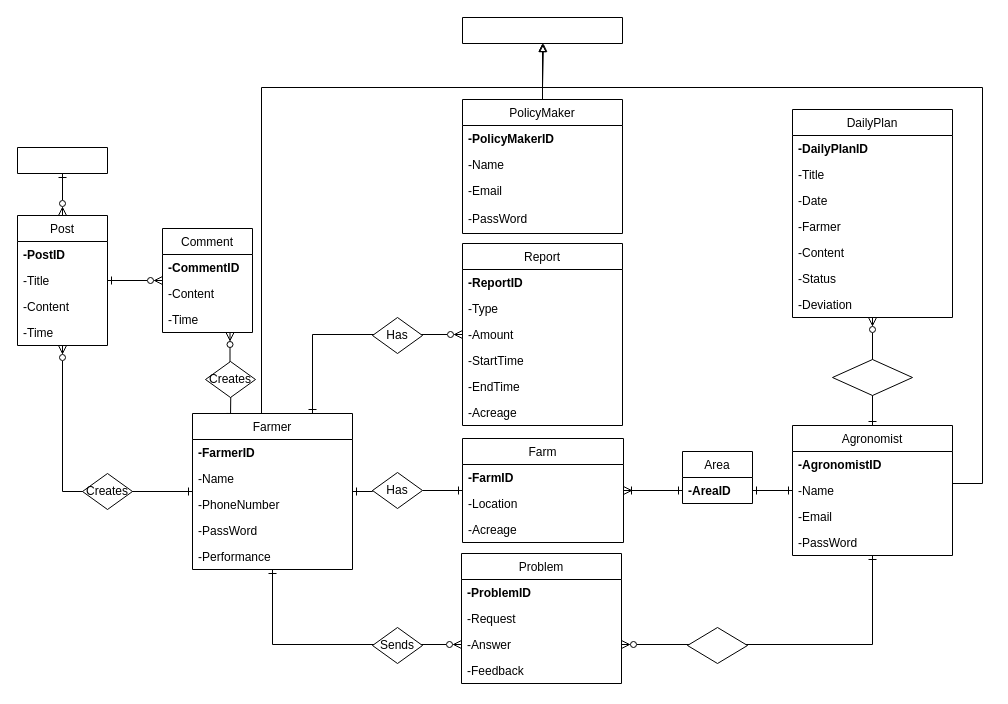
This 1008x704 diagram has some shape labels left out. The shapes that lost their labels are listed below. From the top down, each one's centre as x and y in pixels, then its label:
point (542, 30): User
point (62, 160): Forum
point (872, 377): Manages
point (717, 645): Returns
